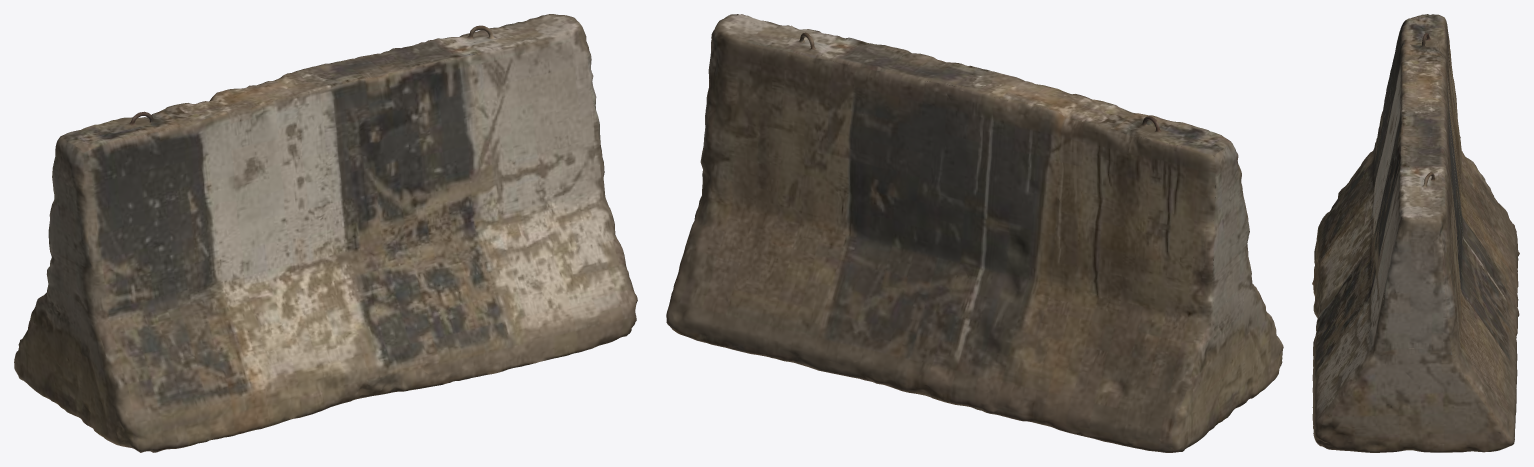
Rendered from concbarrier.glb.
The picture shows the model from 3 angles, left to right: view 1: azimuth 30°, elevation 25°; view 2: azimuth 150°, elevation 25°; view 3: azimuth 270°, elevation 25°; orthographic projection. The views are drawn at different scales.
Parts seen in each view (by area): view 1: concrete_road_barrier; view 2: concrete_road_barrier; view 3: concrete_road_barrier.
Boxes of the visible parts, x1,y1,x2,y2 form: concrete_road_barrier: (14,14,637,452); concrete_road_barrier: (666,14,1283,452); concrete_road_barrier: (1312,14,1519,452).
Size of the model in its own units: 1.55 by 0.8309 by 0.6387.
Materials: 1 (1 with a texture image).
